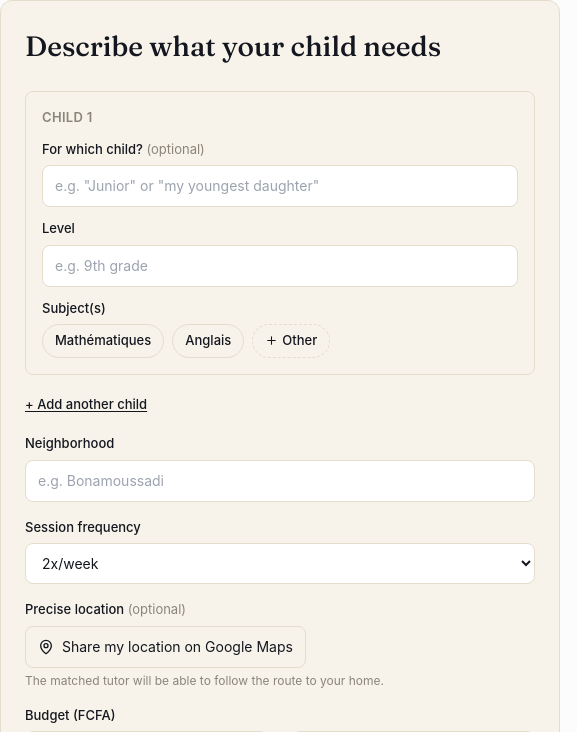
Test case: RequestForm › removes a child block via "Retirer" once there is more than one
Expected: the field labelled "Level" is shown, top-left (42, 244), bottom-right (518, 286)
Click the button "+ Add another child".
click(86, 404)  # box top-left (25, 394), bottom-right (147, 414)
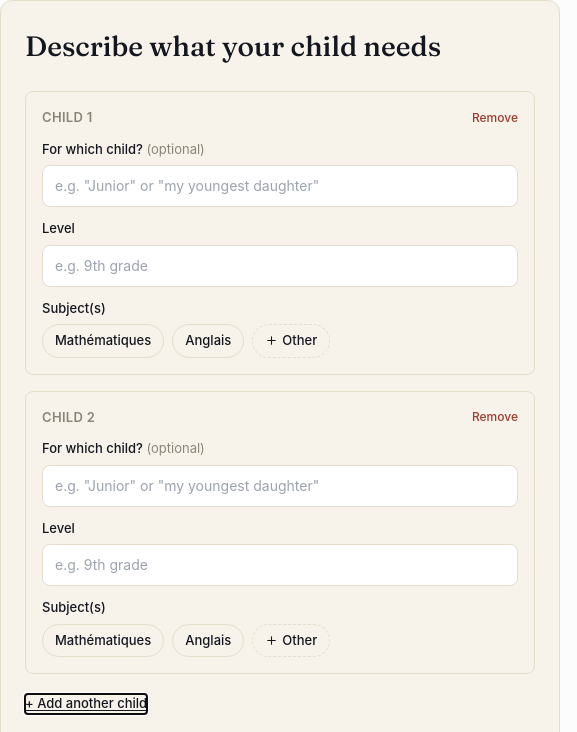
Expected: the number of fields labelled "Level" is 2, top-left (42, 244), bottom-right (518, 286); top-left (42, 544), bottom-right (518, 586)
Click the 1st button "Remove".
click(495, 118)  # box top-left (472, 109), bottom-right (518, 127)
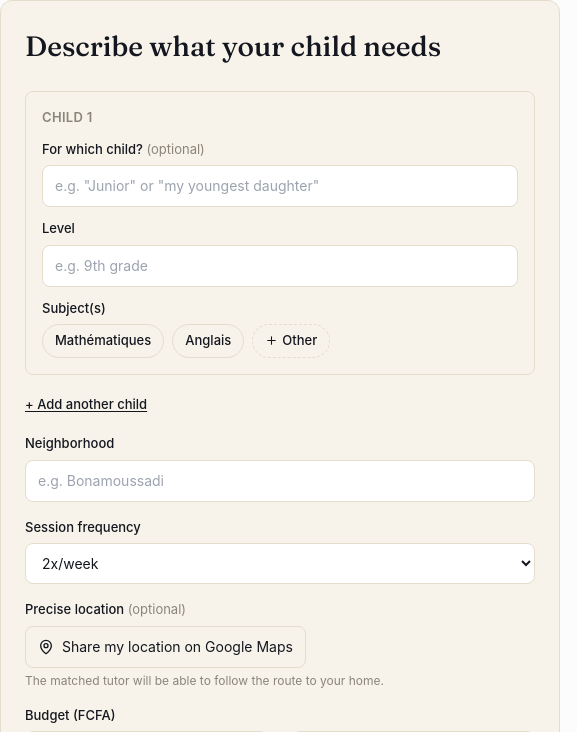
Expected: the number of fields labelled "Level" is 1, top-left (42, 244), bottom-right (518, 286)
Expected: the button "Remove" is gone
